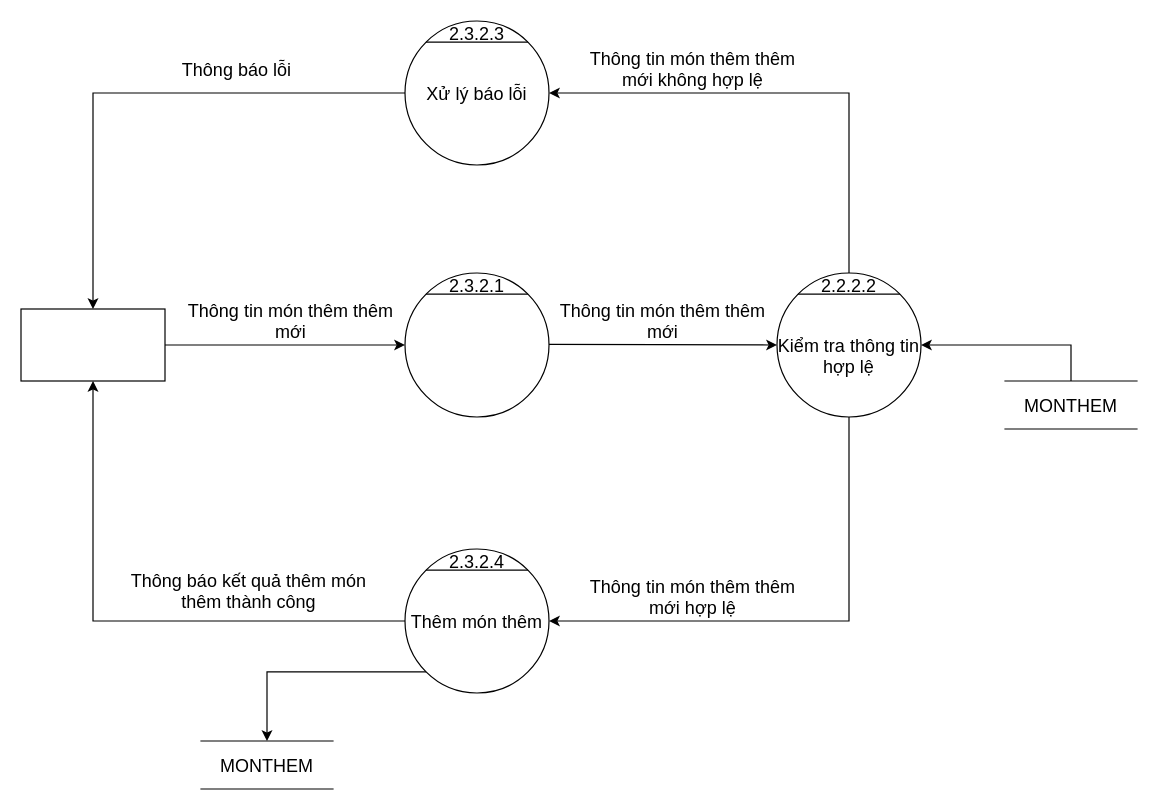
This 1158x810 diagram has some shape labels left out. The box of each missing label's shape, as (x1, y1, x2, y2) in pixels:
Nhân viên quản lý: (20, 308, 165, 381)
Tiếp nhận thông tin thêm mới món thêm: (404, 272, 549, 417)
